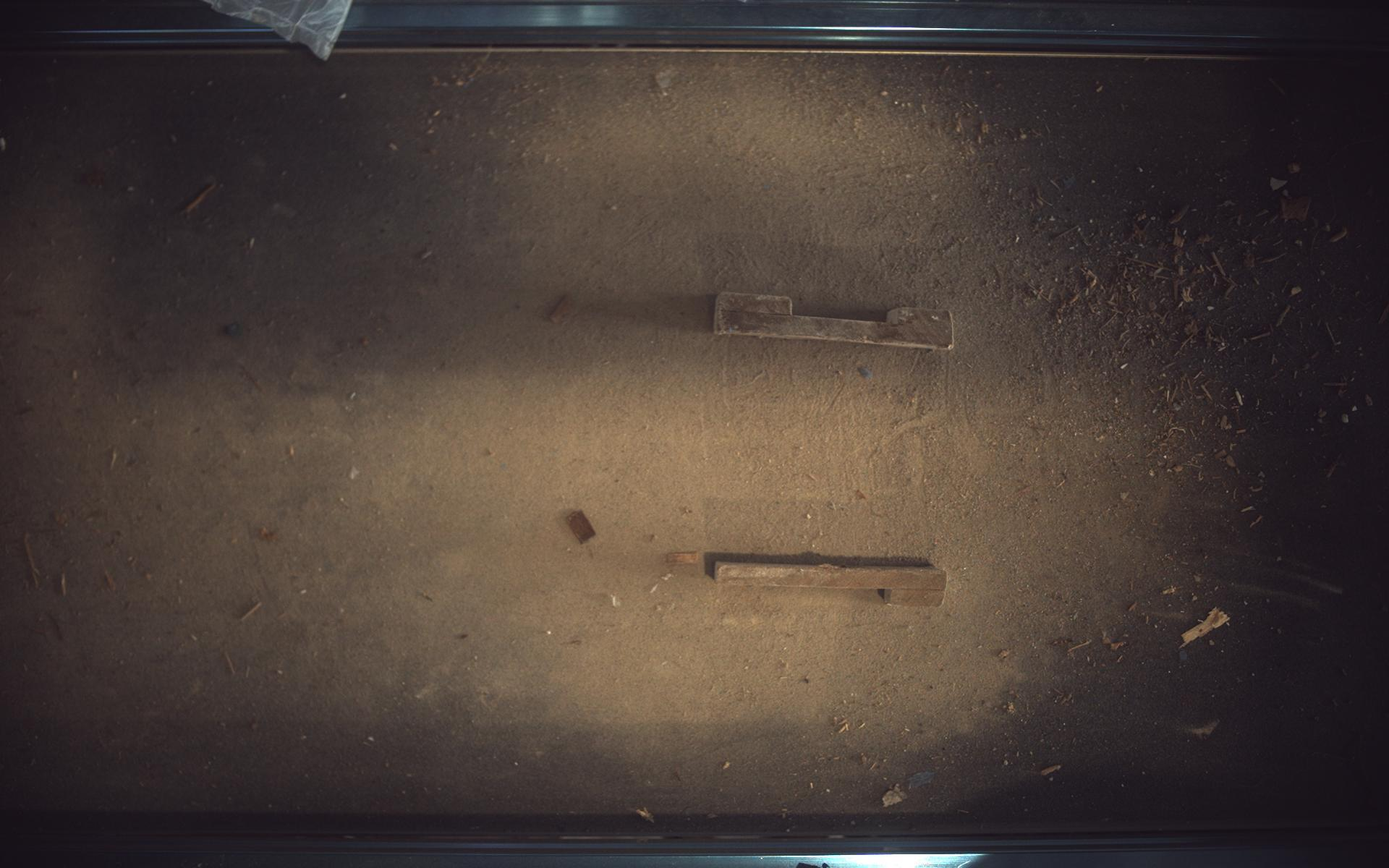wood: (715, 292, 956, 349), (715, 561, 948, 607)
